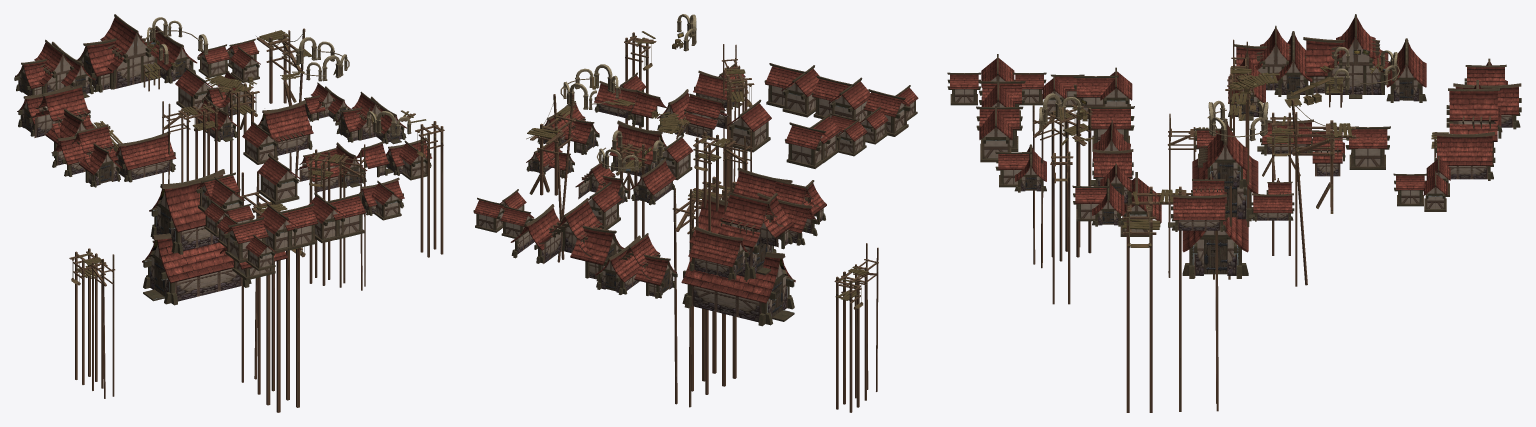
Rendered from bfcs_06.FBX.
The picture shows the model from 3 angles, left to right: view 1: azimuth 30°, elevation 25°; view 2: azimuth 150°, elevation 25°; view 3: azimuth 270°, elevation 25°; orthographic projection. The views are drawn at different scales.
Parts seen in each view (by area): view 1: bfcs_06; view 2: bfcs_06; view 3: bfcs_06.
Boxes of the visible parts, left/top/right/bottom form: bfcs_06: left=14, top=14, right=444, bottom=412; bfcs_06: left=473, top=14, right=918, bottom=412; bfcs_06: left=947, top=14, right=1521, bottom=412.
Size of the model in its own units: 3253 by 3057 by 4572.
